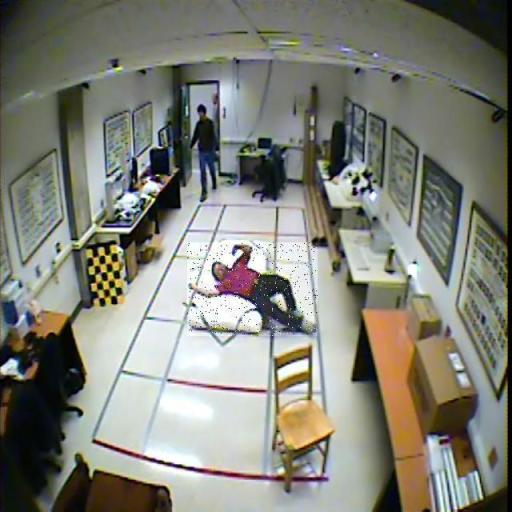Fall: (187, 242, 318, 336)
